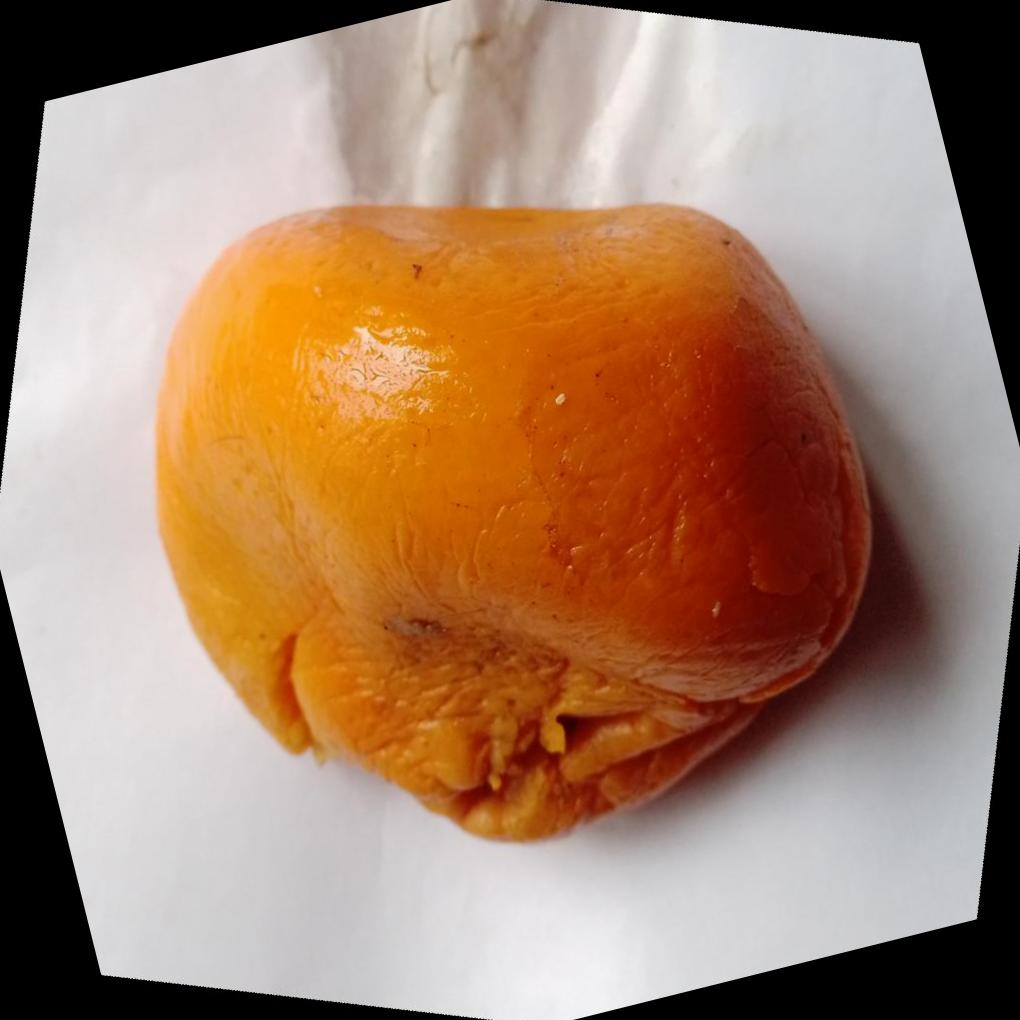FreshOrange: (149, 195, 876, 843)
